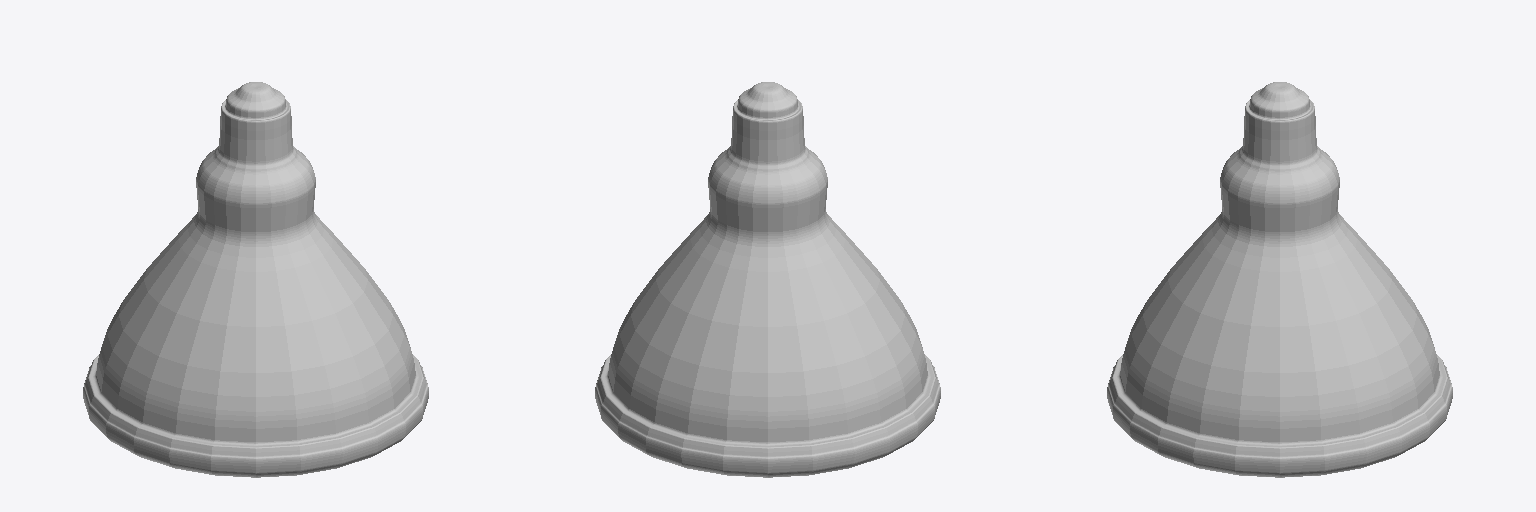
The model's file is light_rightback.obj.
3 views of the same model, side by side, from view 1: azimuth 30°, elevation 25°; view 2: azimuth 150°, elevation 25°; view 3: azimuth 270°, elevation 25° (orthographic).
Visible parts, largest first — view 1: Sealed_Beam001; view 2: Sealed_Beam001; view 3: Sealed_Beam001.
Boxes of the visible parts, x1=… form: Sealed_Beam001: x1=83, y1=82, x2=428, y2=477; Sealed_Beam001: x1=595, y1=82, x2=940, y2=477; Sealed_Beam001: x1=1107, y1=82, x2=1452, y2=477.
Bounding box in the file's own units: 29.31 × 31.69 × 29.31.